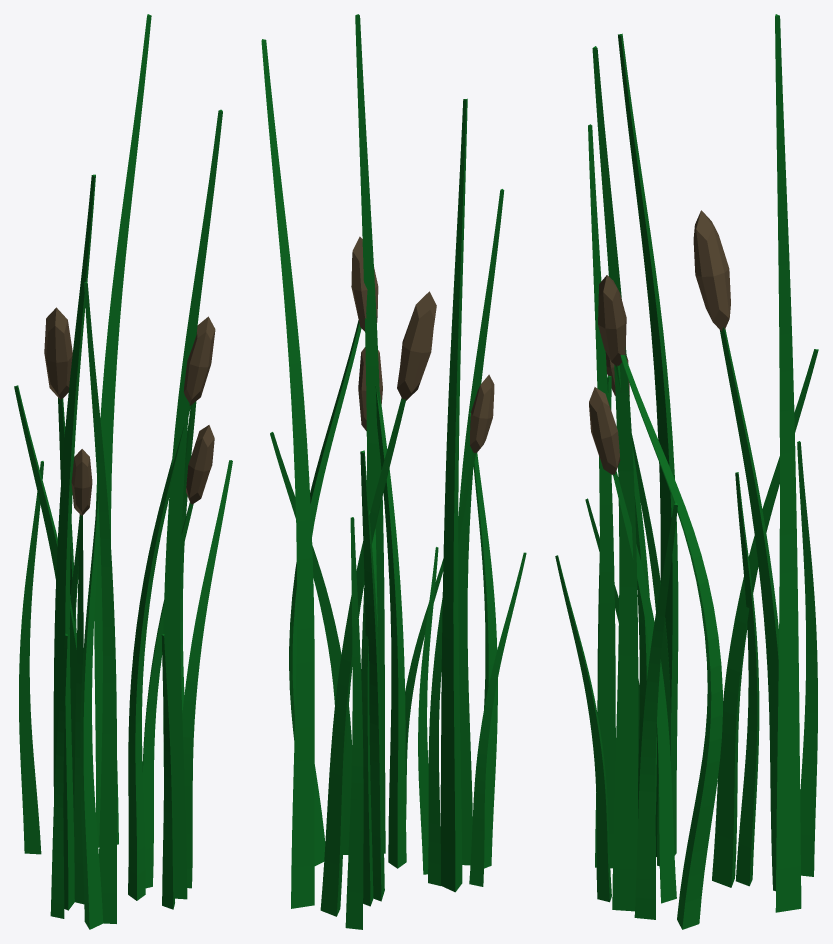
Rendered from reed_1.obj.
3 renders of one model, left to right at view 1: azimuth 30°, elevation 25°; view 2: azimuth 150°, elevation 25°; view 3: azimuth 270°, elevation 25°, orthographic. The views are drawn at different scales.
Visible parts, largest first — view 1: reed.007, reed.003, reed.002, reed.004, reed.006, reed.001, reed.008; view 2: reed.007, reed.004, reed.003, reed.002, reed.001, reed.008, reed.006; view 3: reed.007, reed.003, reed.004, reed.001, reed.008, reed.002, reed.006.
Boxes of the visible parts, bbox=[...] form: reed.007: bbox=[53, 14, 222, 923]; reed.003: bbox=[14, 385, 232, 918]; reed.002: bbox=[71, 316, 215, 904]; reed.004: bbox=[19, 461, 103, 929]; reed.006: bbox=[142, 425, 214, 888]; reed.001: bbox=[44, 307, 76, 630]; reed.008: bbox=[180, 401, 196, 867]; reed.007: bbox=[261, 14, 504, 908]; reed.004: bbox=[345, 413, 497, 929]; reed.003: bbox=[270, 432, 526, 901]; reed.002: bbox=[351, 236, 494, 885]; reed.001: bbox=[320, 291, 436, 916]; reed.008: bbox=[289, 320, 361, 865]; reed.006: bbox=[358, 347, 382, 626]; reed.007: bbox=[588, 14, 801, 912]; reed.003: bbox=[555, 349, 818, 919]; reed.004: bbox=[597, 375, 817, 886]; reed.001: bbox=[693, 210, 778, 891]; reed.008: bbox=[620, 355, 722, 929]; reed.002: bbox=[598, 275, 670, 866]; reed.006: bbox=[589, 387, 676, 903].
Size of the model in its own units: 0.6673 by 2.53 by 0.661.
